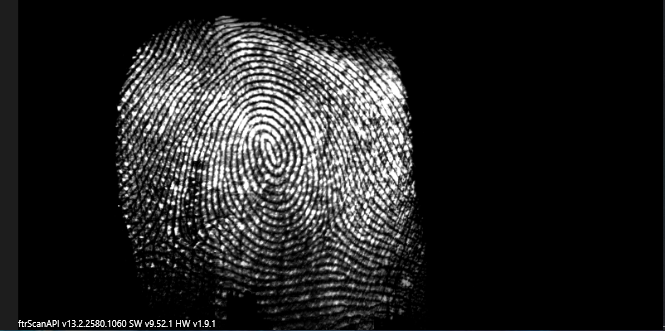deltas: (139, 218, 188, 263), (308, 207, 350, 253)
nucleo: (244, 124, 294, 173)
